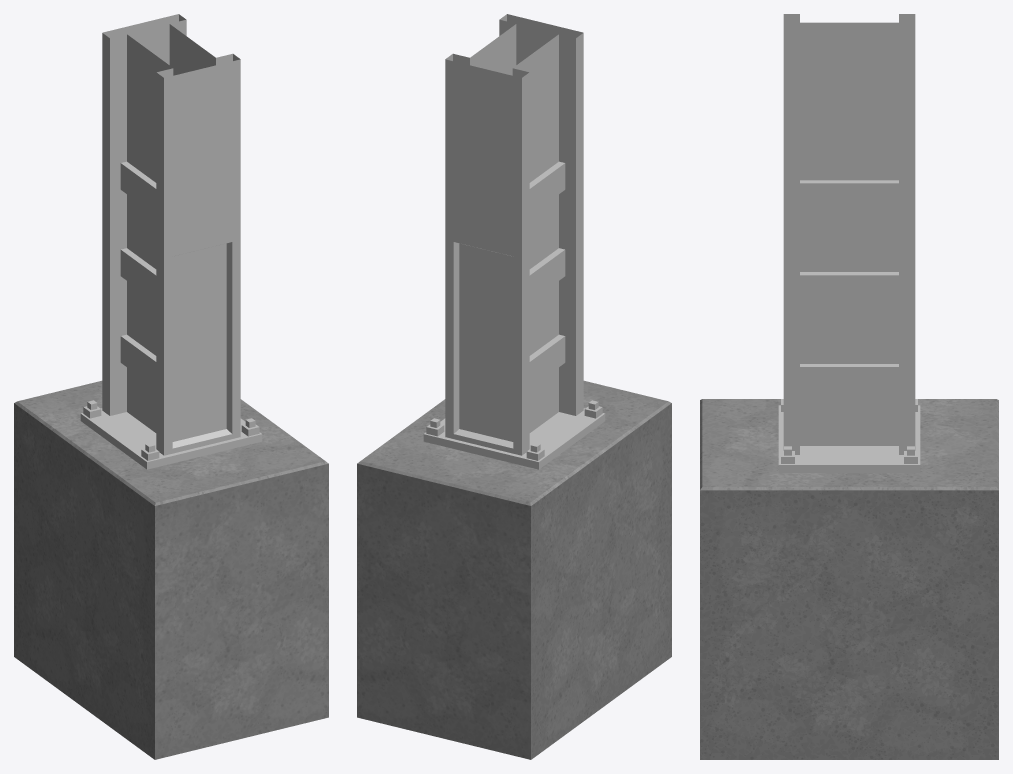
Rendered from SM_Pillar_Dawn_A.fbx.
The picture shows the model from 3 angles, left to right: view 1: azimuth 30°, elevation 25°; view 2: azimuth 150°, elevation 25°; view 3: azimuth 270°, elevation 25°; orthographic projection. The views are drawn at different scales.
Parts seen in each view (by area): view 1: SM_Pillar_Dawn_A; view 2: SM_Pillar_Dawn_A; view 3: SM_Pillar_Dawn_A.
Boxes of the visible parts, left/top/right/bottom form: SM_Pillar_Dawn_A: left=14, top=14, right=328, bottom=759; SM_Pillar_Dawn_A: left=357, top=14, right=671, bottom=759; SM_Pillar_Dawn_A: left=700, top=14, right=998, bottom=759.
Bounding box in the file's own units: 114 × 400 × 159.
